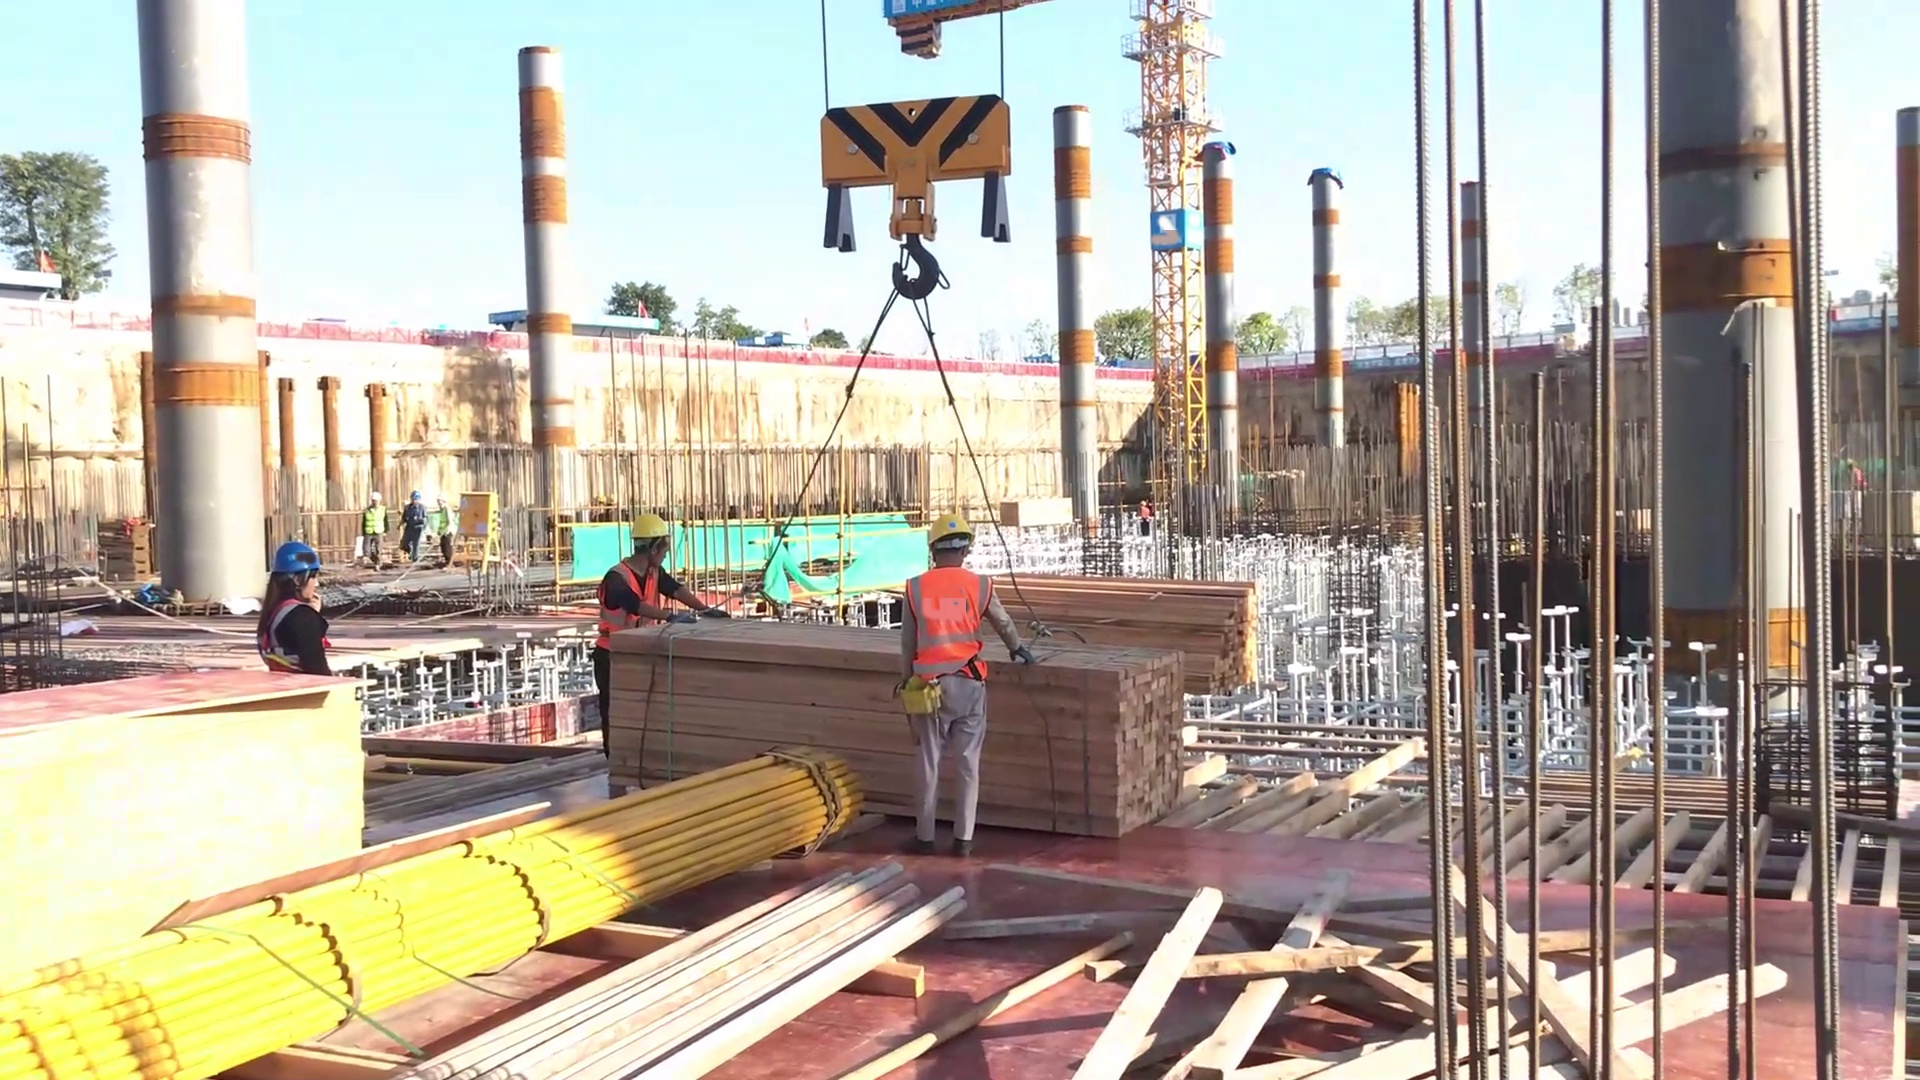board: (1, 654, 406, 954)
ebox: (452, 480, 516, 577)
helmet: (924, 504, 988, 556), (269, 533, 331, 580), (627, 512, 678, 537)
hook: (812, 96, 1042, 300)
person: (901, 503, 1031, 847), (597, 499, 711, 792), (242, 524, 348, 683), (358, 484, 392, 570), (394, 487, 421, 554), (432, 496, 454, 564)
vest: (901, 558, 992, 679), (582, 551, 678, 643), (250, 589, 338, 684), (361, 503, 389, 542)
wood: (596, 595, 1202, 835), (948, 564, 1285, 714)
